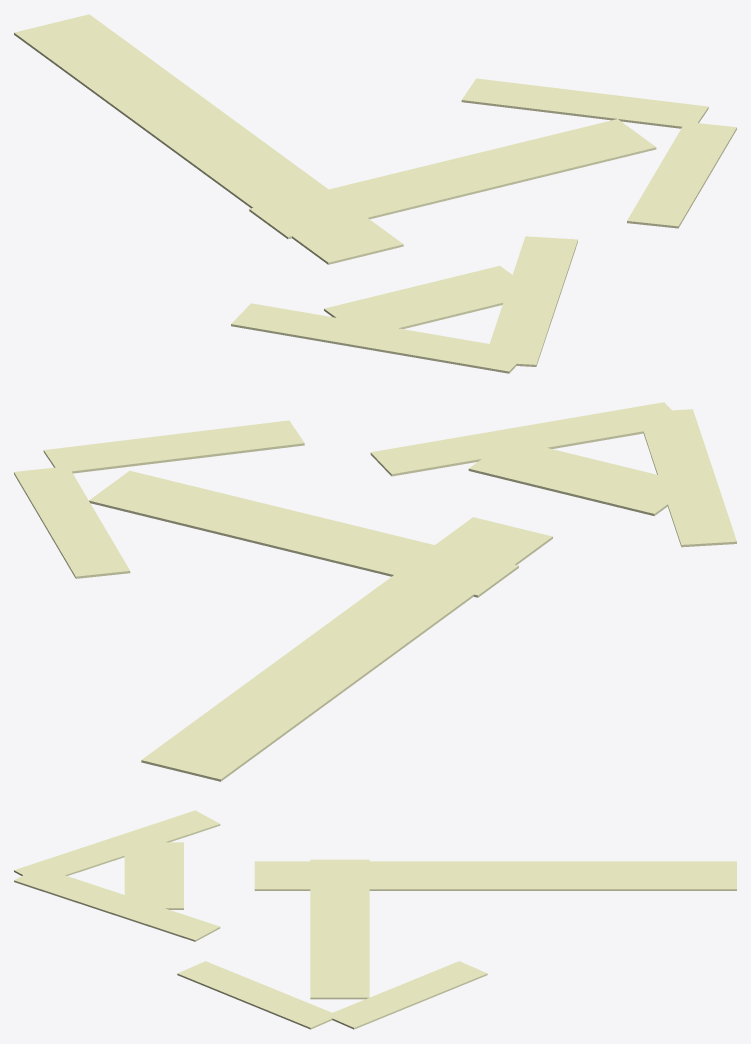
Rendered from marking_arrow_straight_right_white.glb.
3 renders of one model, top to bottom at view 1: azimuth 30°, elevation 25°; view 2: azimuth 150°, elevation 25°; view 3: azimuth 270°, elevation 25°, orthographic. The views are drawn at different scales.
Visible parts, largest first — view 1: shaft, arm, head_left, head_cap, head_right, turn_head_lower, turn_head_upper; view 2: shaft, arm, head_cap, head_left, head_right, turn_head_upper, turn_head_lower; view 3: shaft, arm, head_left, head_right, head_cap, turn_head_upper, turn_head_lower.
Boxes of the visible parts, left/top/right/bottom form: shaft: left=14, top=14, right=403, bottom=264; arm: left=249, top=119, right=656, bottom=239; head_left: left=231, top=303, right=528, bottom=373; head_cap: left=324, top=265, right=537, bottom=336; head_right: left=489, top=236, right=577, bottom=366; turn_head_lower: left=461, top=78, right=708, bottom=128; turn_head_upper: left=627, top=123, right=736, bottom=228; shaft: left=141, top=517, right=552, bottom=781; arm: left=89, top=470, right=518, bottom=597; head_cap: left=468, top=439, right=694, bottom=516; head_left: left=637, top=409, right=736, bottom=547; head_right: left=370, top=402, right=683, bottom=476; turn_head_upper: left=43, top=420, right=304, bottom=473; turn_head_lower: left=14, top=466, right=130, bottom=578; shaft: left=254, top=861, right=736, bottom=890; arm: left=310, top=859, right=369, bottom=999; head_left: left=14, top=810, right=220, bottom=883; head_right: left=14, top=874, right=220, bottom=941; head_cap: left=124, top=842, right=183, bottom=909; turn_head_upper: left=177, top=961, right=337, bottom=1029; turn_head_lower: left=326, top=961, right=487, bottom=1029.
Size of the model in its own units: 1.39 by 0.005 by 1.95.
